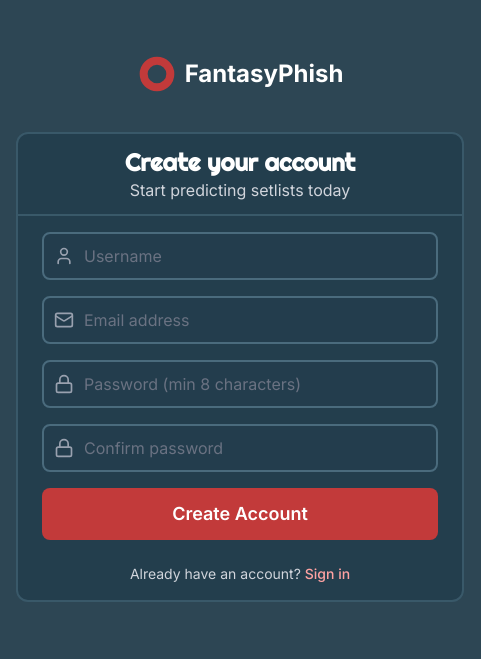
Test: RegisterClient › validates {"confirm":"different"}
Type "alice_1" into the field labelled "Username".
click(240, 256); type("alice_1")  # box x1=42 y1=232 x2=438 y2=280
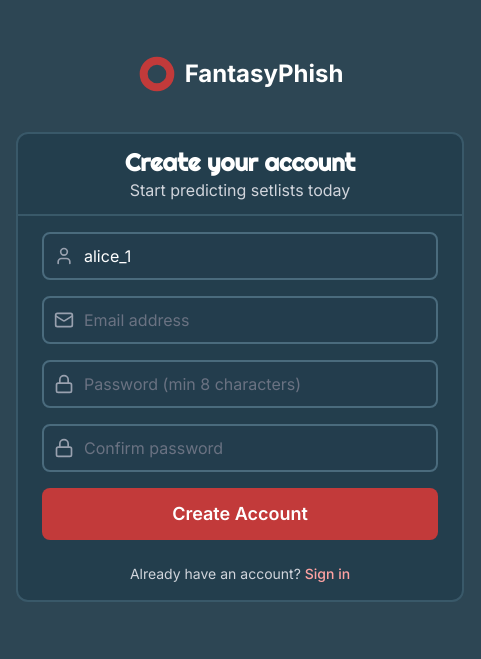
Type "a@b.com" into the field labelled "Email address".
click(240, 320); type("a@b.com")  # box x1=42 y1=296 x2=438 y2=344
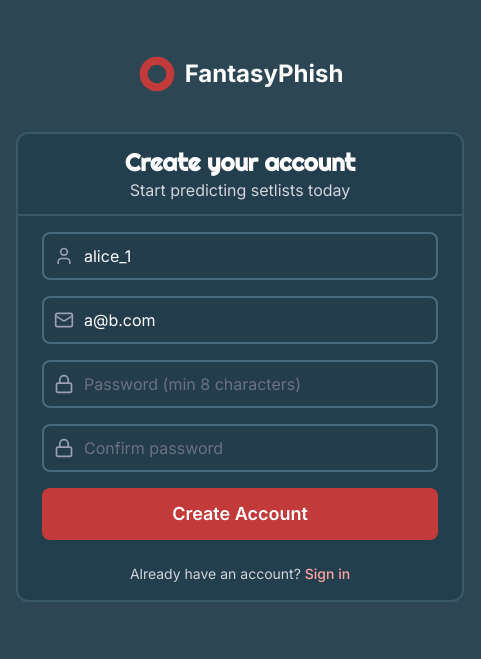
Type "password1" into the password field named "Password (minimum 8 characters)".
click(240, 384); type("password1")  # box x1=42 y1=360 x2=438 y2=408
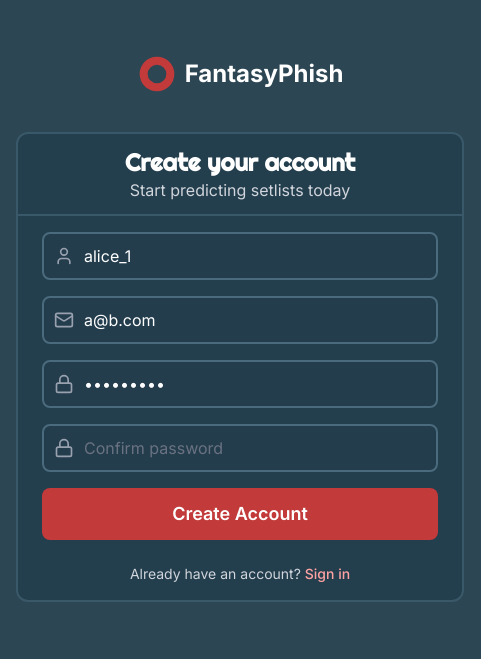
Type "different" into the password field labelled "Confirm password".
click(240, 448); type("different")  # box x1=42 y1=424 x2=438 y2=472
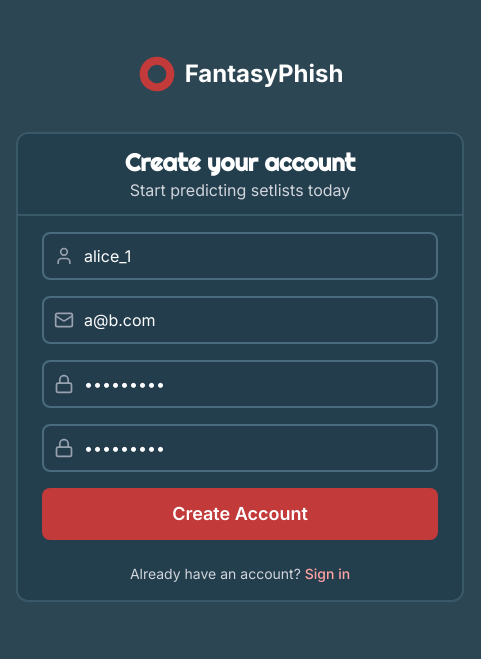
Click the button "Create Account".
click(240, 514)  # box x1=42 y1=488 x2=438 y2=540
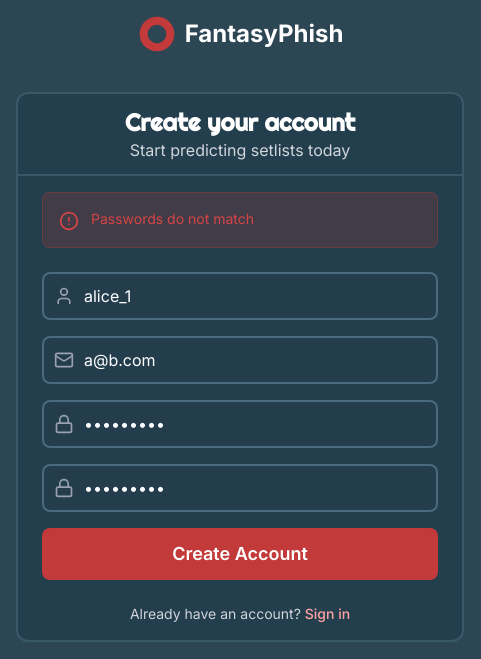
Now the message reads "Passwords do not match", box x1=91 y1=210 x2=254 y2=227
